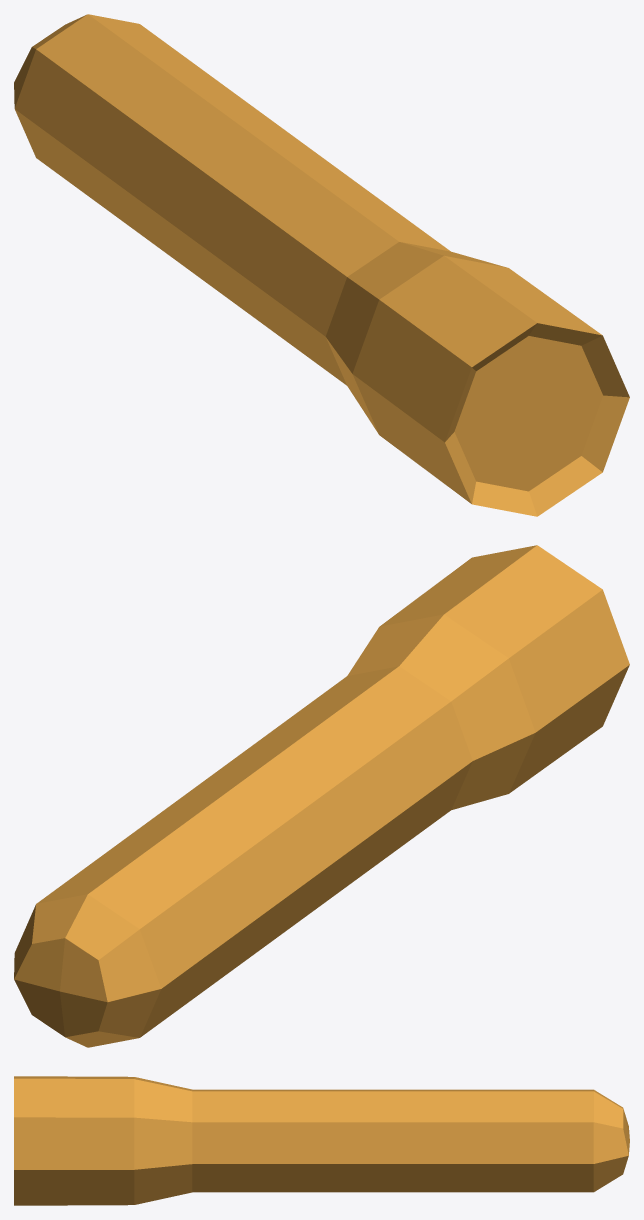
Rendered from survival-flashlight.glb.
3 renders of one model, top to bottom at view 1: azimuth 30°, elevation 25°; view 2: azimuth 150°, elevation 25°; view 3: azimuth 270°, elevation 25°, orthographic. The views are drawn at different scales.
Visible parts, largest first — view 1: flashlight; view 2: flashlight; view 3: flashlight.
Boxes of the visible parts, x1,y1,x2,y2 form: flashlight: (14,14,629,516); flashlight: (14,545,629,1047); flashlight: (14,1076,629,1205).
Bounding box in the file's own units: 0.063 × 0.063 × 0.2813.
